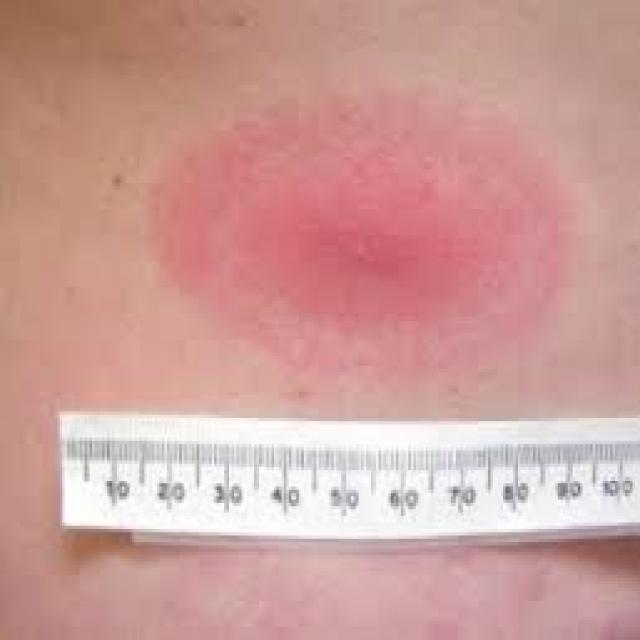kene: (112, 84, 617, 384)
